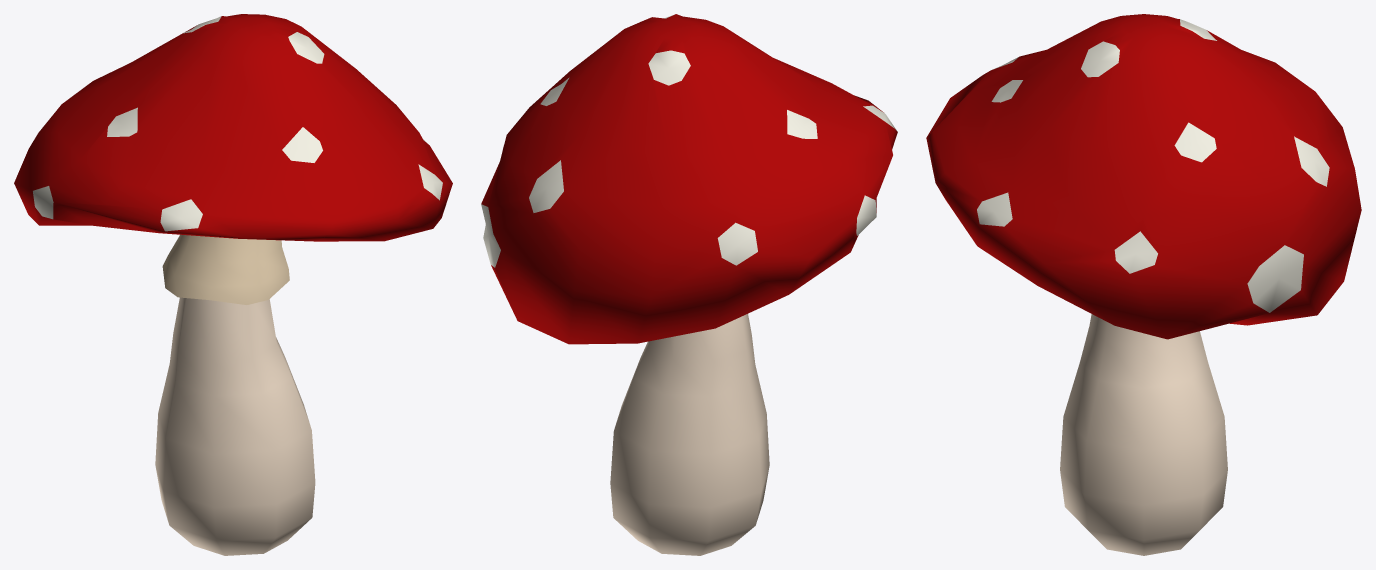
Rendered from Mushroom_03.fbx.
3 views of the same model, side by side, from view 1: azimuth 30°, elevation 25°; view 2: azimuth 150°, elevation 25°; view 3: azimuth 270°, elevation 25° (orthographic).
Parts seen in each view (by area): view 1: Mushroom_03; view 2: Mushroom_03; view 3: Mushroom_03.
Boxes of the visible parts, x1,y1,x2,y2 form: Mushroom_03: (14, 14, 452, 555); Mushroom_03: (481, 14, 897, 555); Mushroom_03: (926, 14, 1361, 555).
Bounding box in the file's own units: 30.14 × 39.54 × 29.88.
